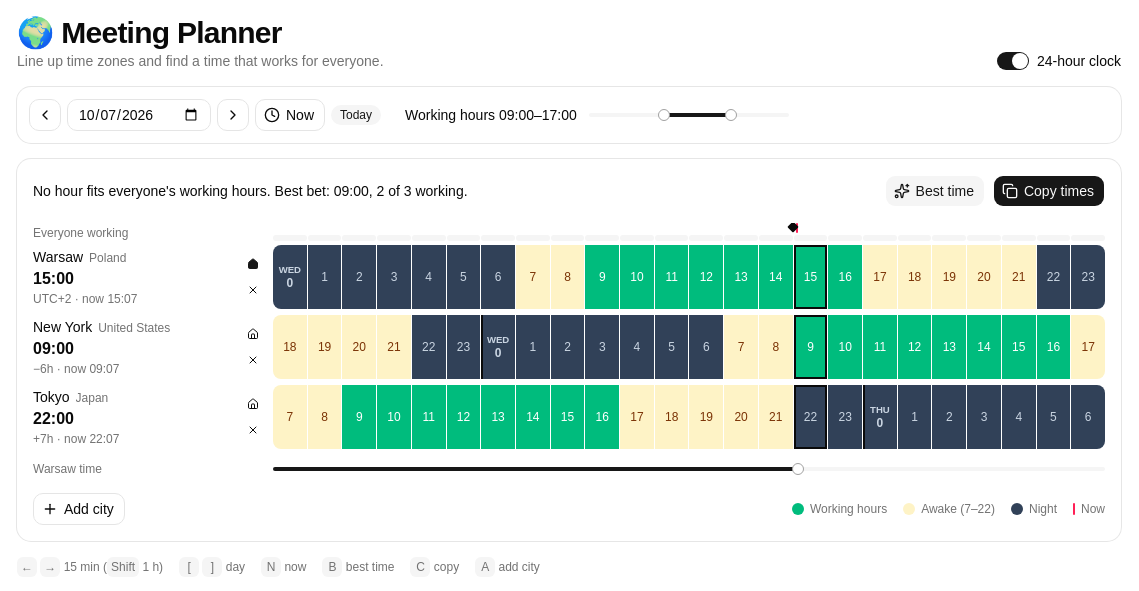
Scenario: cities › removes cities and makes another one home, keeping the moment
Click the button named "Make Tokyo home": [253, 404] box [241,392,265,416]
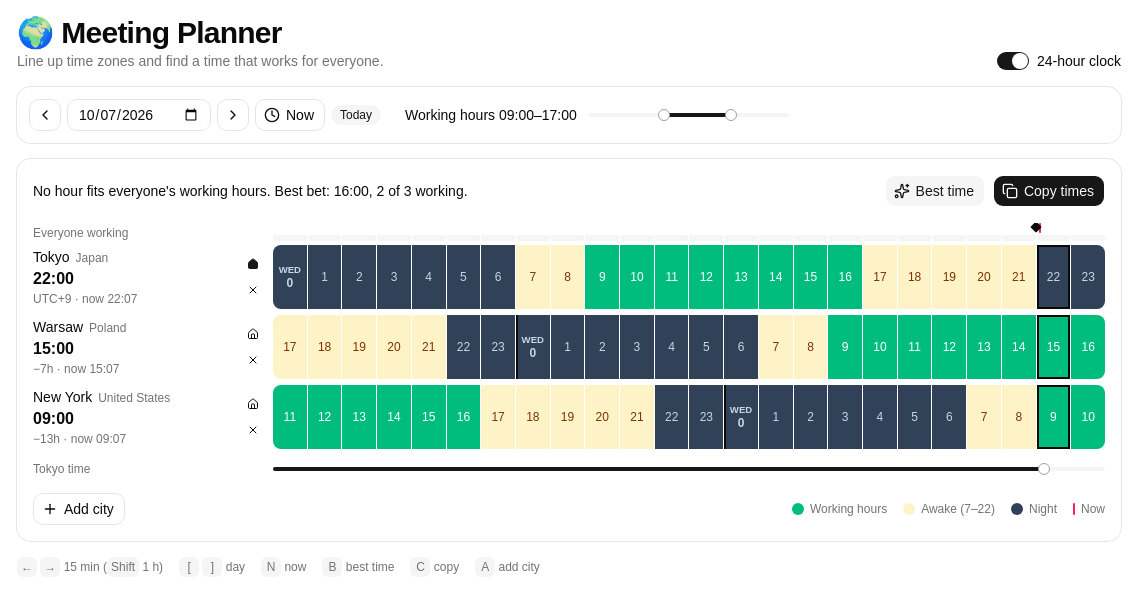
Click the button named "Remove Tokyo": [253, 290] box [241,278,265,302]
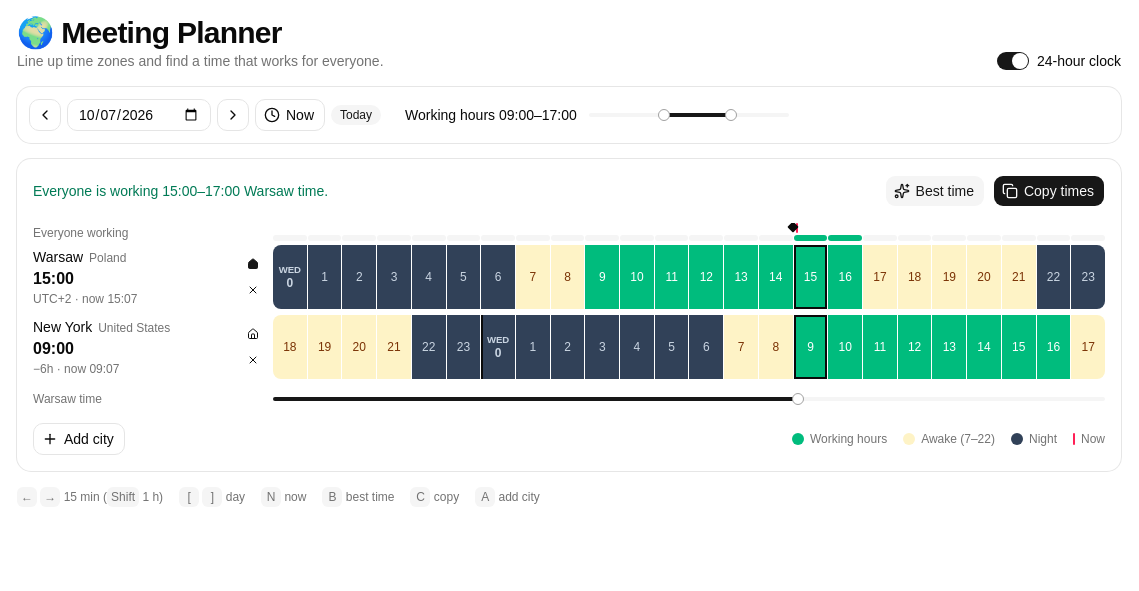
Click the button named "Remove New York": [253, 360] box [241,348,265,372]
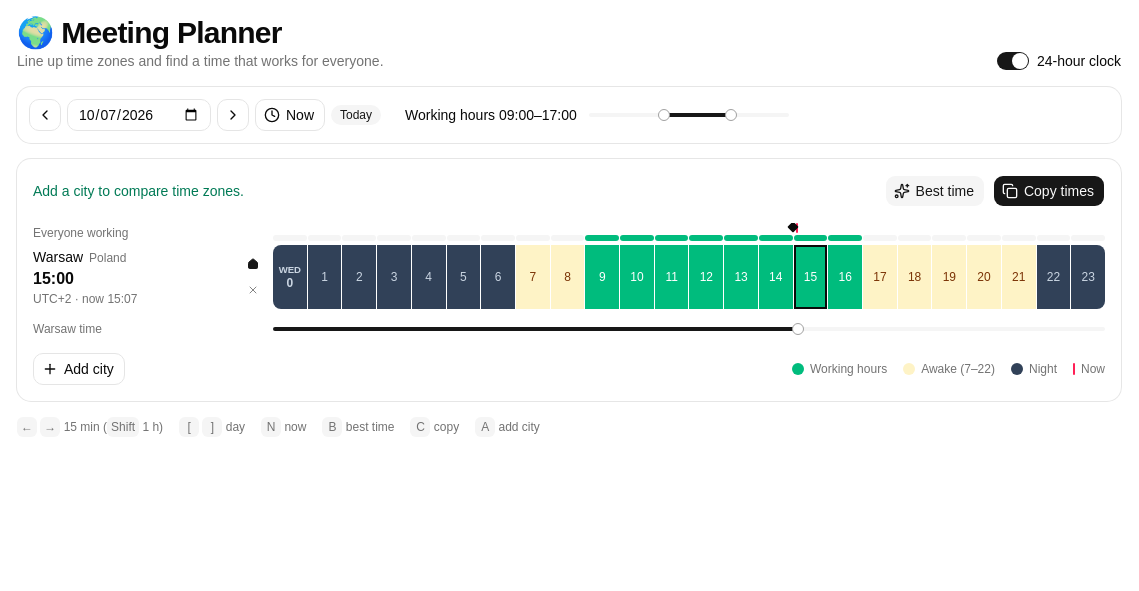
Check: the button named "Remove Warsaw" is disabled, box [241,278,265,302]
Check: the message reads "Add a city to compare time zones.", box [33,183,244,199]
